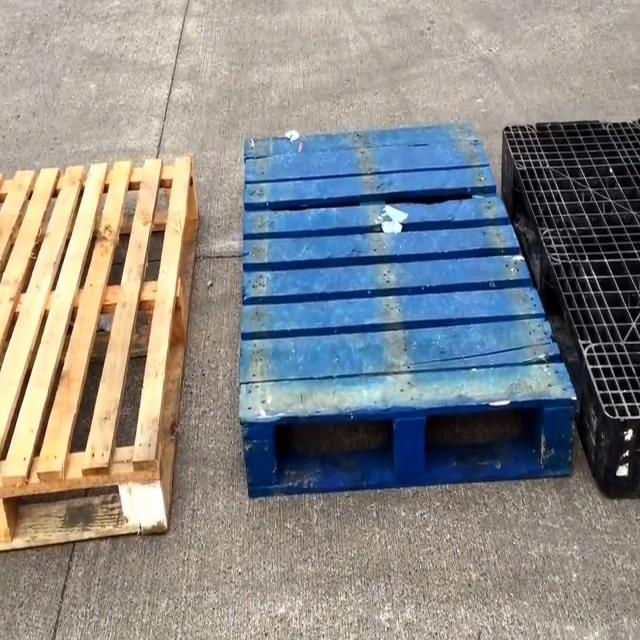Palette: (243, 120, 578, 480), (2, 145, 199, 551), (496, 111, 640, 505)
